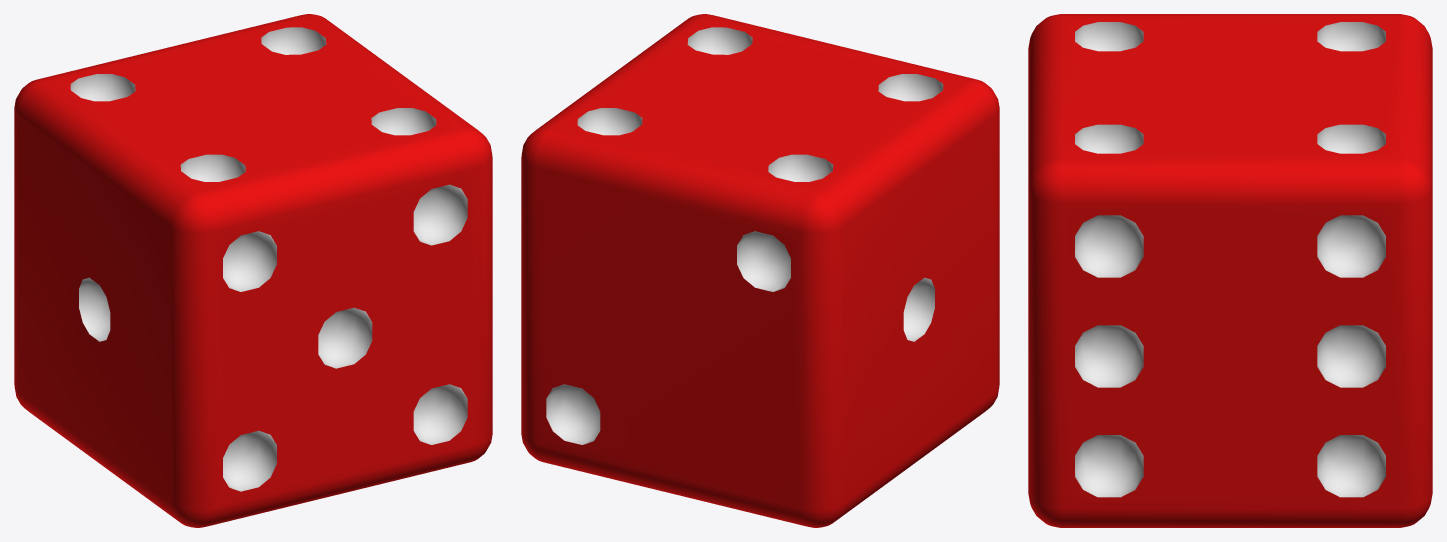
Rendered from dice_red.gltf.
The picture shows the model from 3 angles, left to right: view 1: azimuth 30°, elevation 25°; view 2: azimuth 150°, elevation 25°; view 3: azimuth 270°, elevation 25°; orthographic projection. The views are drawn at different scales.
Parts seen in each view (by area): view 1: dice_red; view 2: dice_red; view 3: dice_red.
Part boxes in pixels (left/top/right/bottom): dice_red: left=14, top=14, right=492, bottom=527; dice_red: left=521, top=14, right=999, bottom=527; dice_red: left=1028, top=14, right=1432, bottom=527.
Bounding box in the file's own units: 0.05 × 0.05 × 0.05.
1 material, 1 textured.
